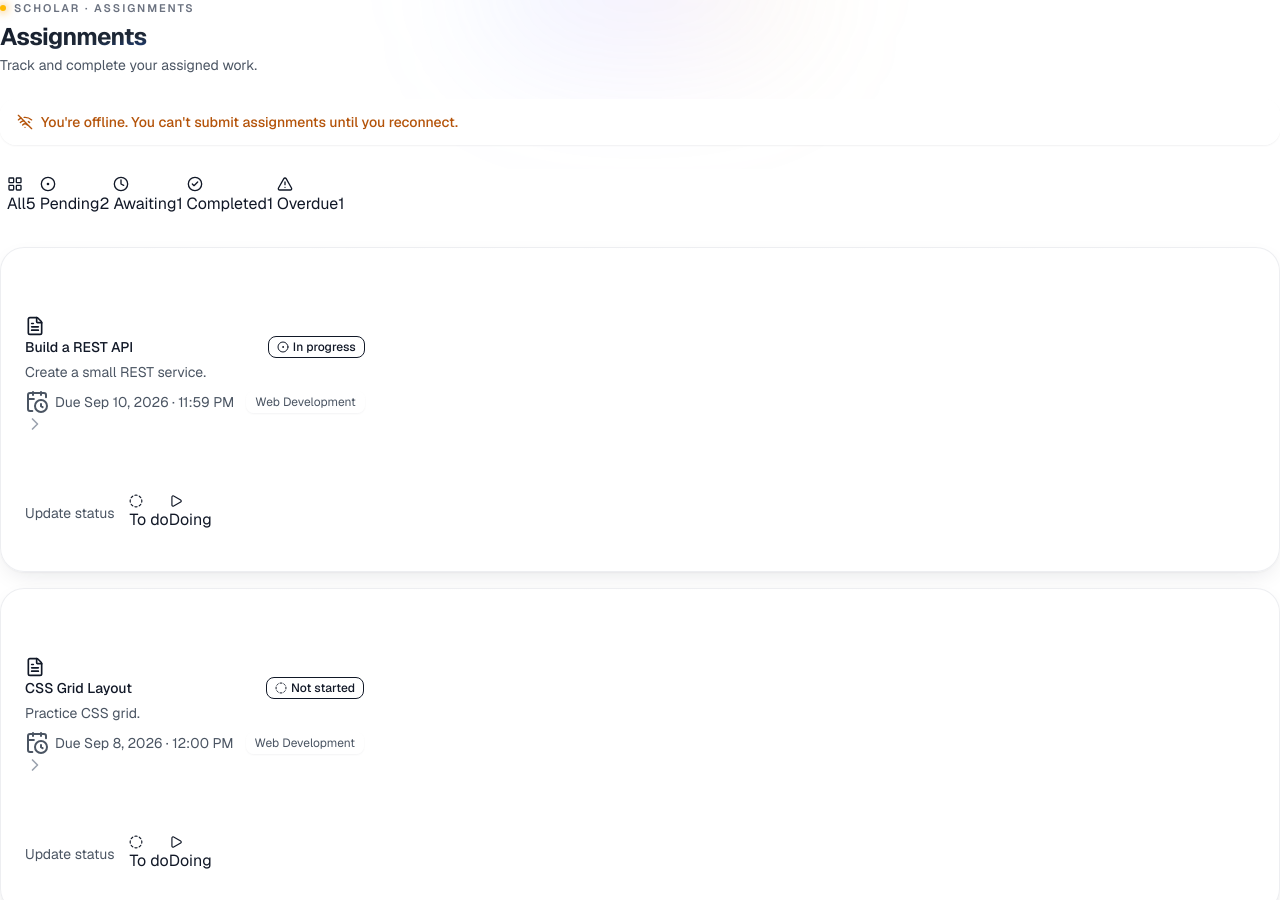
Test: AssignmentsView › shows offline alert inside detail modal and hides Mark as Done
The image size is (1280, 900).
Click the button with aria-label "View Build a REST API" at (79, 346), box 25,316 -> 1255,434
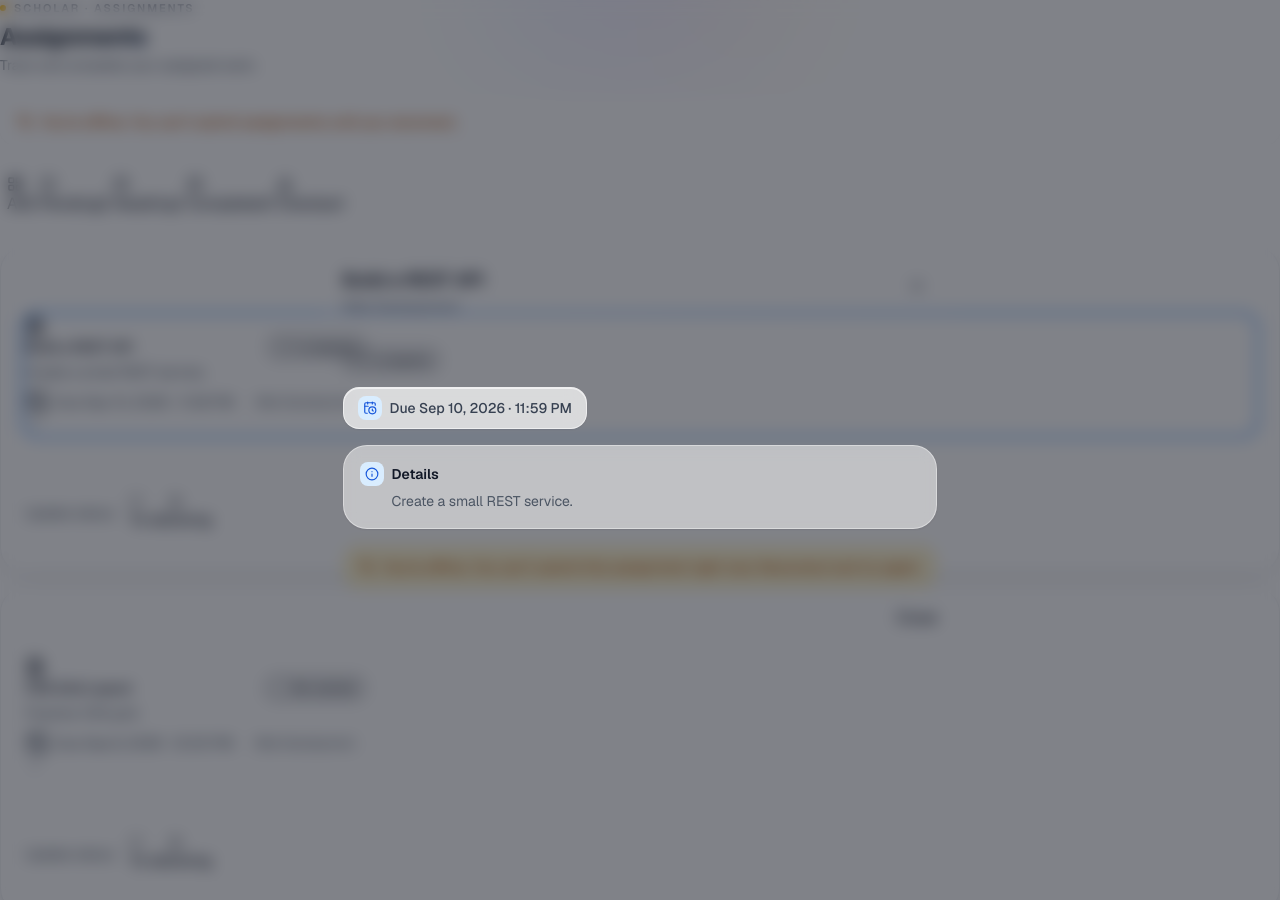
Check: the dialog is shown
